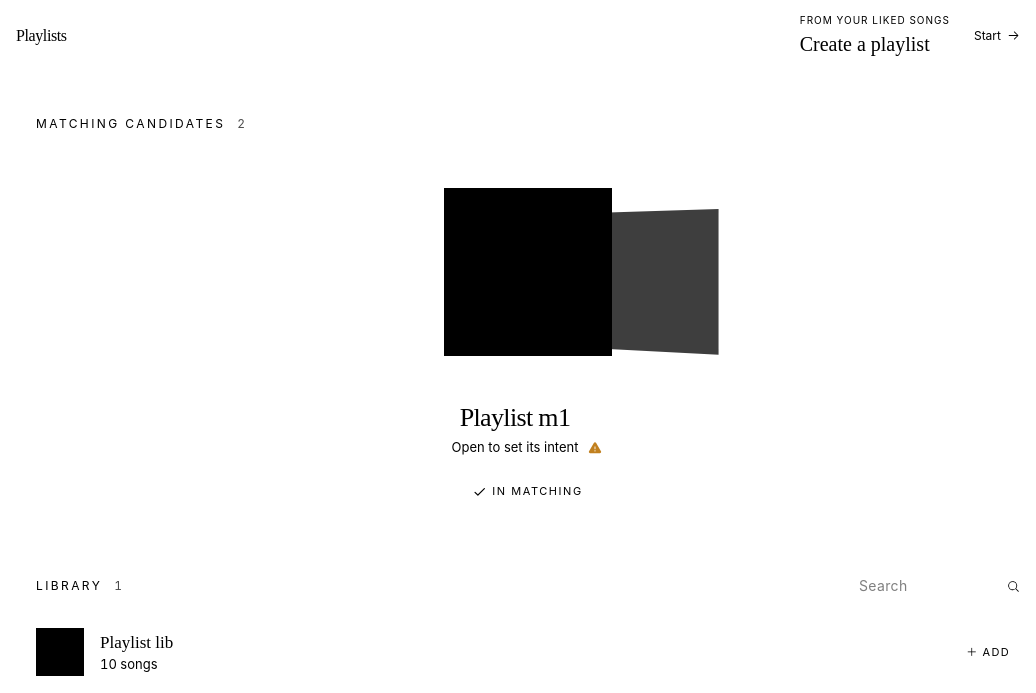
CoverFlowPlaylists library search › says the query came up empty, not that the library is
Type "nothing here" into the search field named "Search library" at (915, 586), box [851,576,979,596]
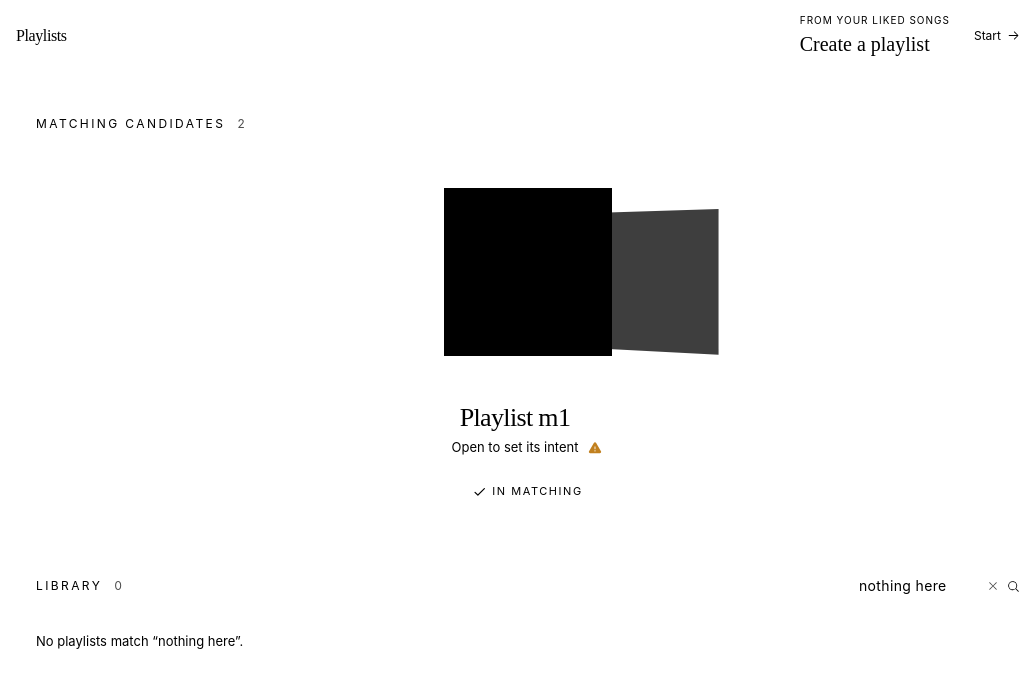
Check: the text "No playlists match “nothing here”." is shown, box [36,633,243,649]
